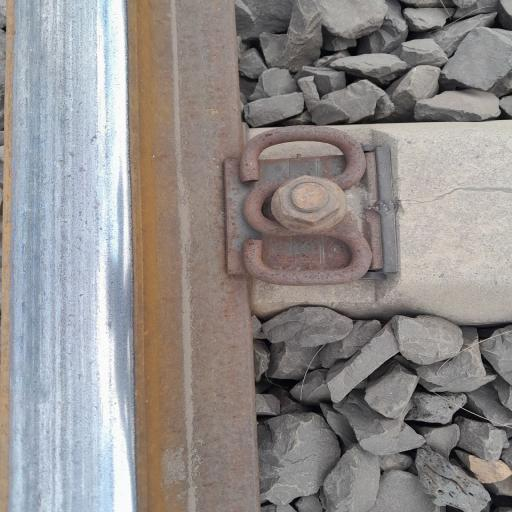bolt: (274, 174, 350, 226)
clip: (224, 117, 389, 292)
rail: (0, 26, 149, 454)
